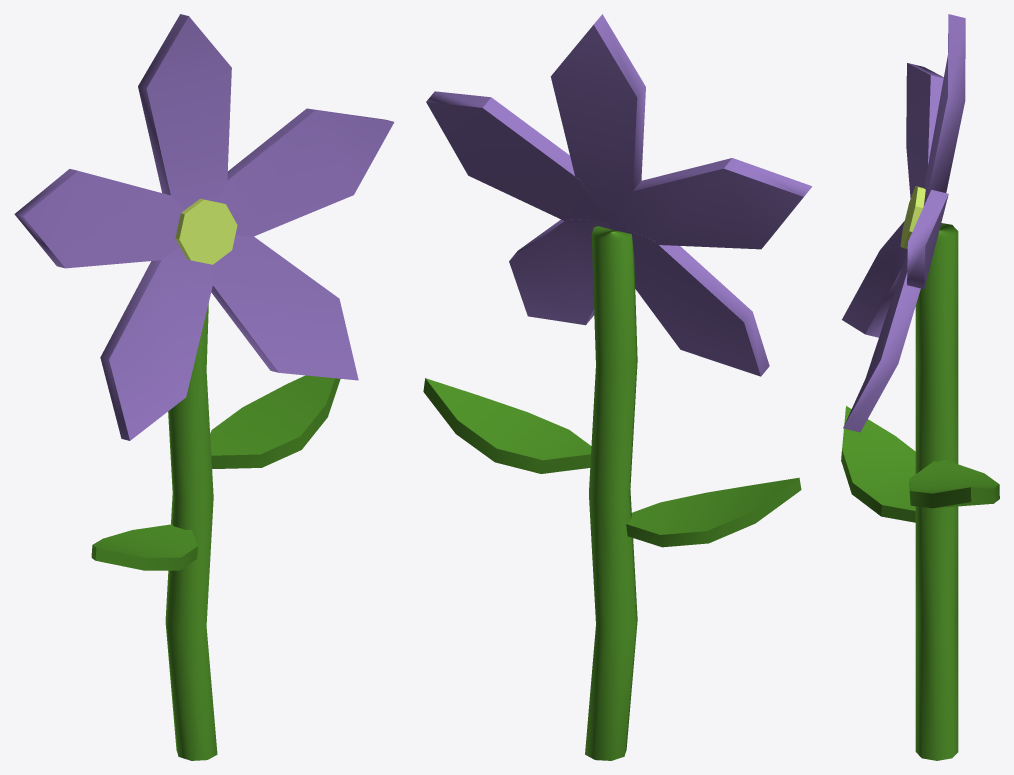
The model's file is Flower_Purple_3.fbx.
3 renders of one model, left to right at view 1: azimuth 30°, elevation 25°; view 2: azimuth 150°, elevation 25°; view 3: azimuth 270°, elevation 25°, orthographic.
Visible parts, largest first — view 1: Cube.103, Cylinder.633, Plane.198, Plane.199, Cylinder.632; view 2: Cube.103, Cylinder.633, Plane.198, Plane.199; view 3: Cylinder.633, Cube.103, Plane.199, Plane.198, Cylinder.632.
Part boxes in pixels (box(x1,y1,x2,y2)): Cube.103: box(14, 14, 394, 440); Cylinder.633: box(165, 304, 217, 760); Plane.198: box(210, 375, 340, 468); Plane.199: box(91, 524, 197, 570); Cylinder.632: box(175, 198, 237, 264); Cube.103: box(426, 14, 812, 376); Cylinder.633: box(585, 226, 637, 760); Plane.198: box(423, 378, 591, 473); Plane.199: box(626, 477, 801, 547); Cylinder.633: box(915, 223, 958, 760); Cube.103: box(842, 14, 965, 432); Plane.199: box(841, 406, 915, 522); Plane.198: box(909, 460, 999, 508); Cylinder.632: box(900, 186, 925, 248).
Size of the model in its own units: 71.56 by 135 by 26.3.
